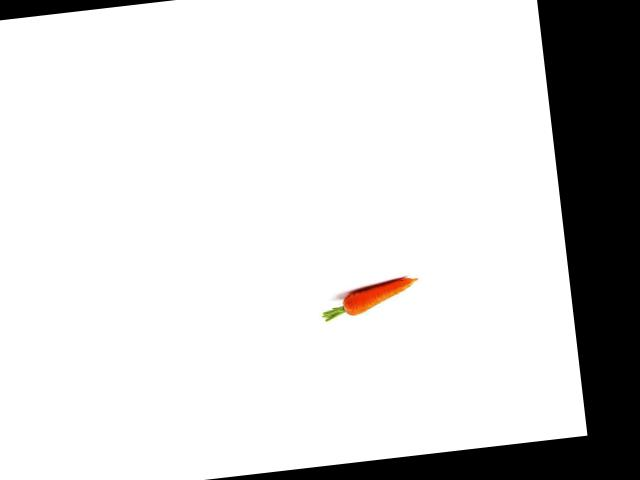carrot: (331, 268, 425, 326)
